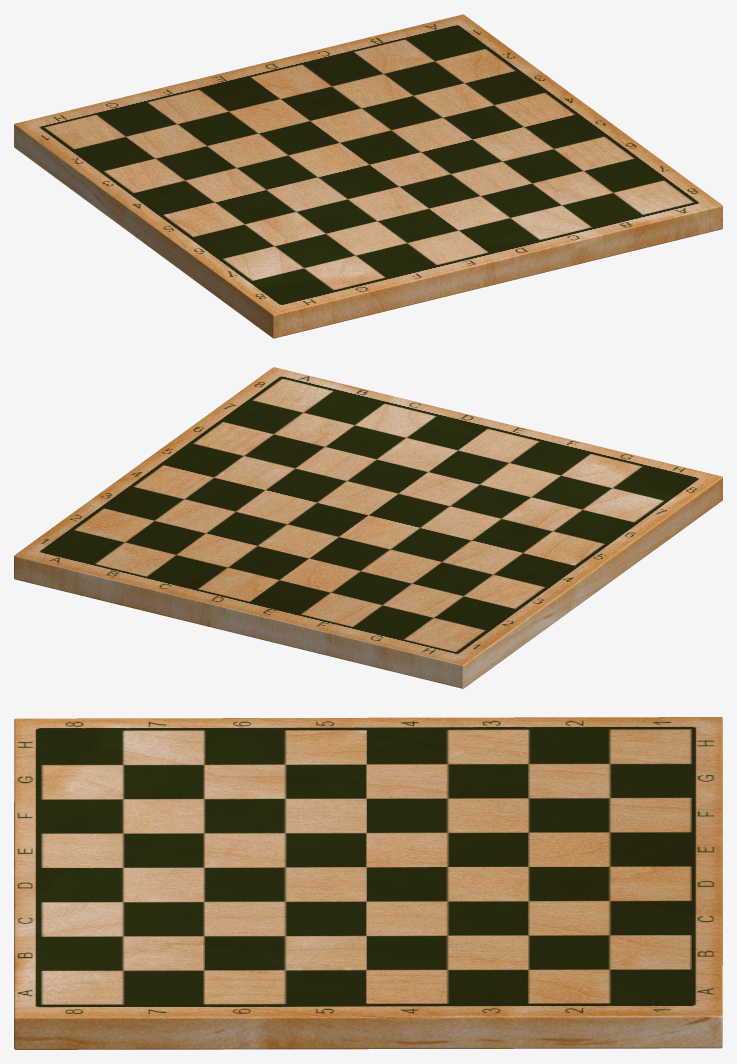
The model's file is chess_board1.obj.
The picture shows the model from 3 angles, top to bottom: view 1: azimuth 30°, elevation 25°; view 2: azimuth 150°, elevation 25°; view 3: azimuth 270°, elevation 25°; orthographic projection. The views are drawn at different scales.
Visible parts, largest first — view 1: chess_board1.002; view 2: chess_board1.002; view 3: chess_board1.002.
Part boxes in pixels (box(x1,y1,x2,y2)): chess_board1.002: box(14, 14, 722, 338); chess_board1.002: box(14, 367, 722, 688); chess_board1.002: box(14, 717, 722, 1049).
Bounding box in the file's own units: 39.01 × 2.1 × 39.02.
Materials: 1 (1 with a texture image).
